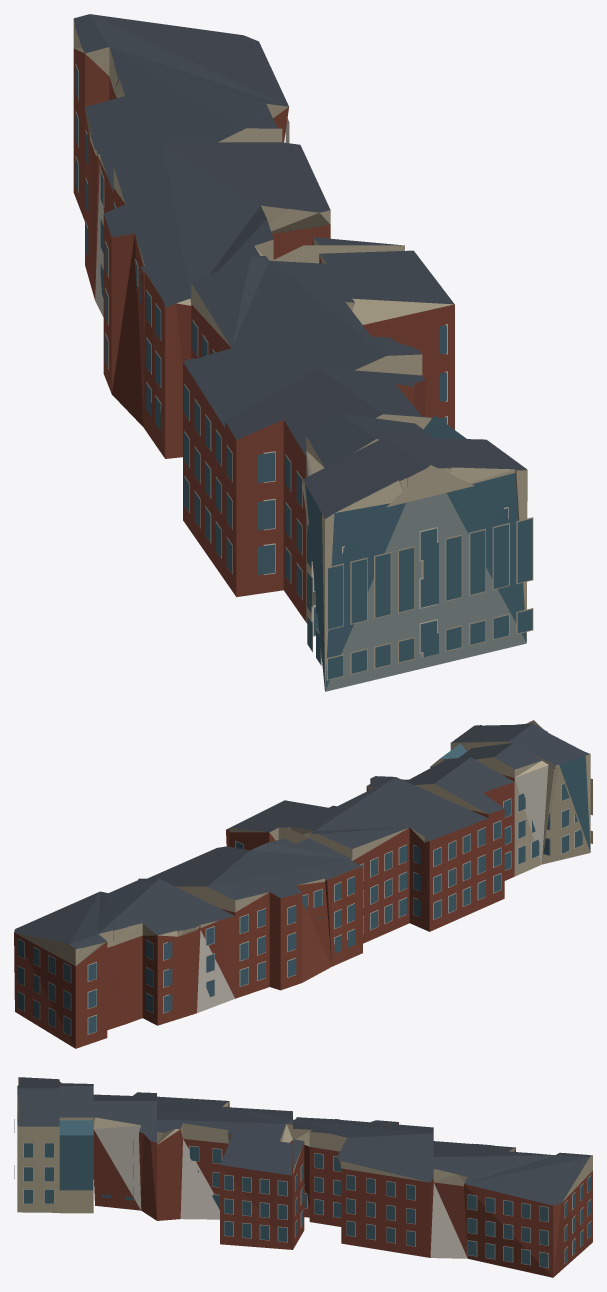
The model's file is allard-pierson.lod2.glb.
3 renders of one model, top to bottom at view 1: azimuth 30°, elevation 25°; view 2: azimuth 150°, elevation 25°; view 3: azimuth 270°, elevation 25°, orthographic. The views are drawn at different scales.
Parts seen in each view (by area): view 1: lod2; view 2: lod2; view 3: lod2.
Boxes of the visible parts, bbox=[...] form: lod2: bbox=[73, 14, 533, 691]; lod2: bbox=[14, 720, 592, 1048]; lod2: bbox=[14, 1077, 592, 1277].
Bounding box in the file's own units: 53.98 × 22.43 × 115.
